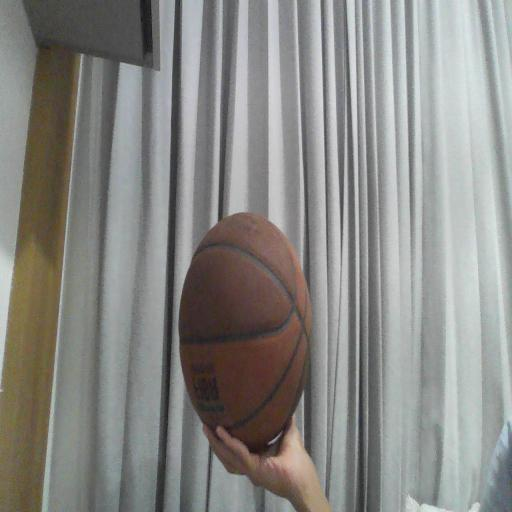basketball: (179, 214, 311, 451)
